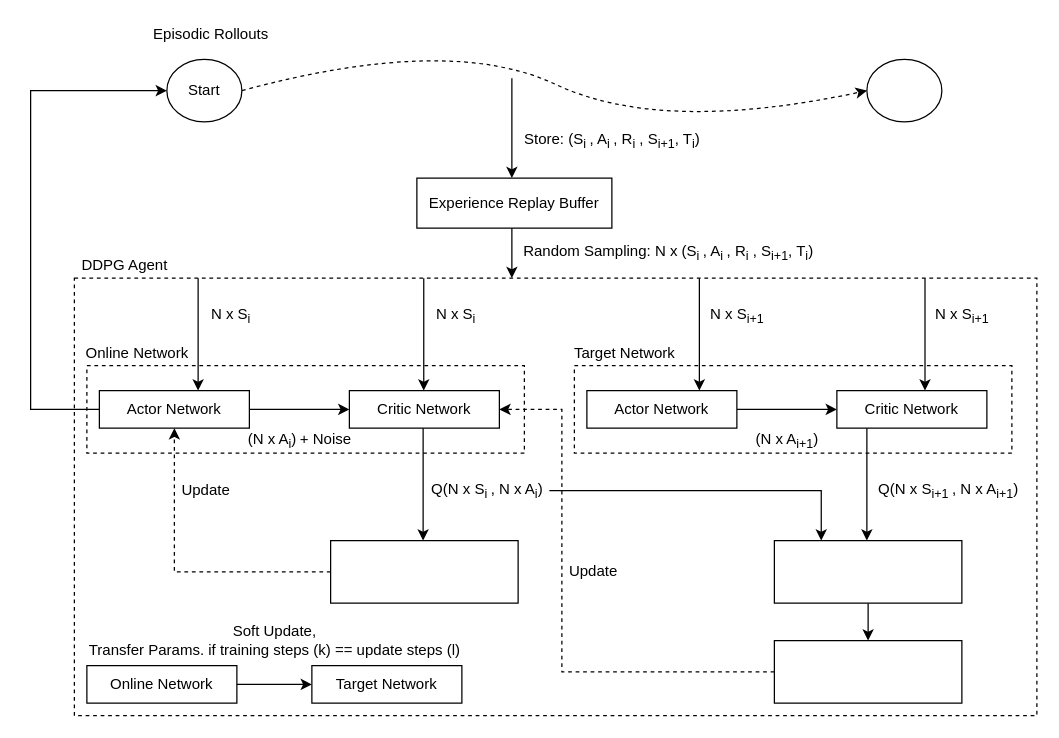
Image size: 1059x738. Some labels were removed from this diagram. The box of each missing label's shape, as (x1, y1, x2, y2) in pixels:
Compute Gradients ∇ Actor Network Params.: (329, 539, 518, 603)
Compute Gradients ∇ Critic Network Params.: (773, 639, 962, 703)
Compute TD Error as Loss Using Bellman Equation: (773, 539, 962, 603)
Stop: (866, 58, 942, 122)
